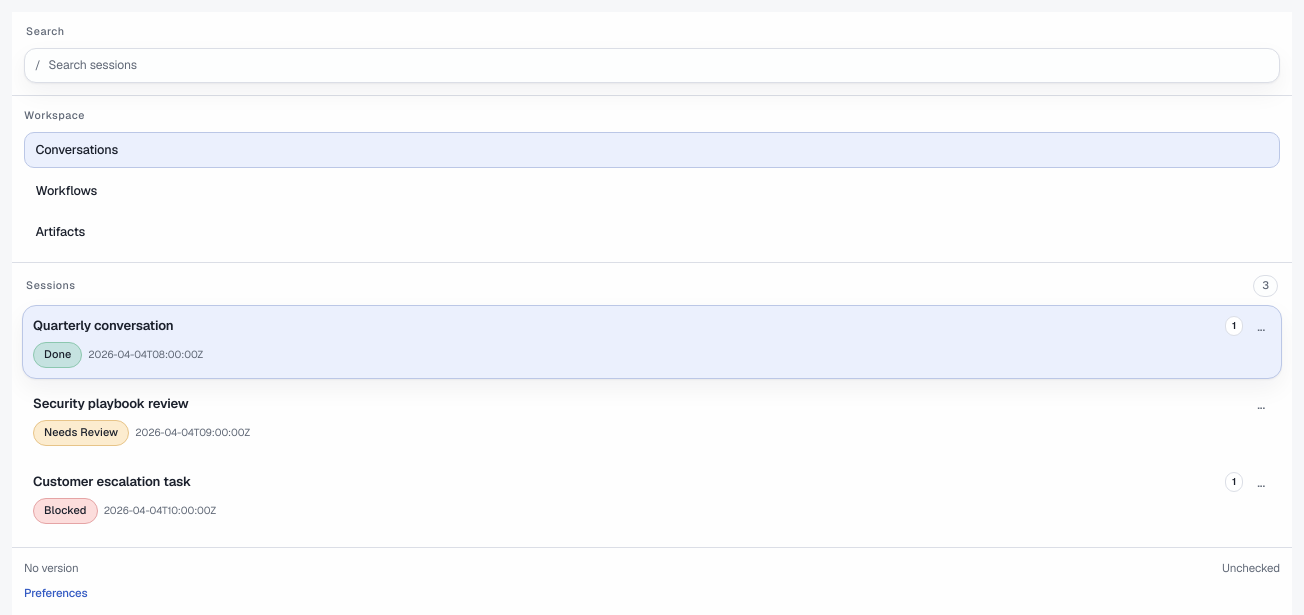
Test: UserConsoleSidebar › opens session actions from a conversation right-click
Right-click the text "Quarterly conversation" at (103, 326), box [33,317,174,334]
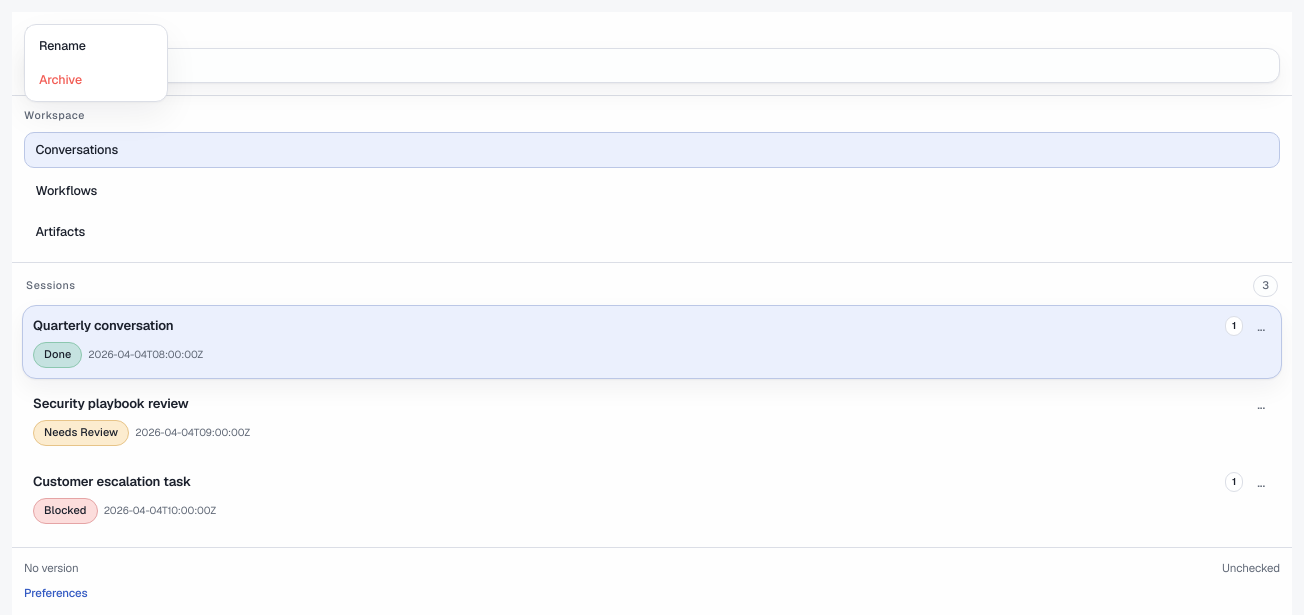
Expected: the menu named "session actions" is shown, [24,24,168,102]
Expected: the menu item "Rename" is shown, [29,29,163,63]
Expected: the menu item "Archive" is shown, [29,63,163,97]
